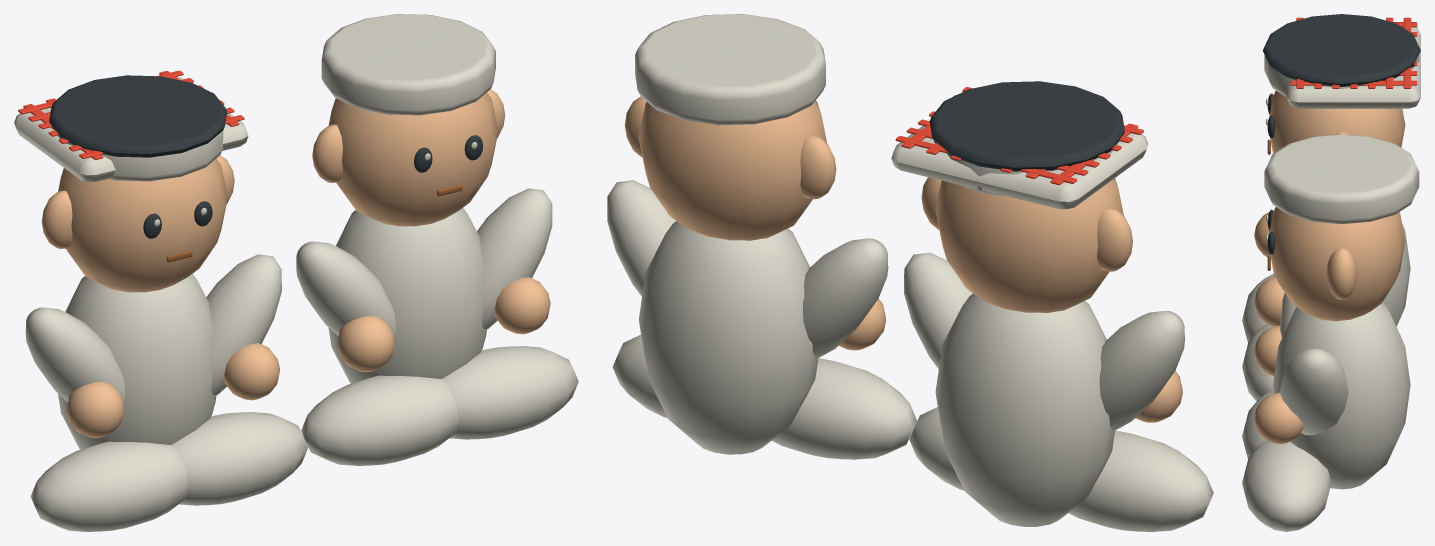
File: NJD-22.glb
3 views of the same model, side by side, from view 1: azimuth 30°, elevation 25°; view 2: azimuth 150°, elevation 25°; view 3: azimuth 270°, elevation 25° (orthographic). The views are drawn at different scales.
Visible parts, largest first — view 1: robe, robe.001, head.001, head, cap.001, igal, crossed leg, crossed leg.002, crossed leg.001, crossed leg.003, arm.003, arm.001 (+10 smaller); view 2: robe.001, robe, head.001, cap.001, head, igal, crossed leg.002, crossed leg, arm, arm.002, shemagh, arm.003 (+8 smaller); view 3: robe.001, cap.001, head.001, igal, crossed leg.003, head, arm.003, shemagh, hand.003, ear.003, crossed leg.001, hand.001 (+9 smaller).
Part boxes in pixels (left/top/right/bottom): robe: left=58, top=274, right=216, bottom=449; robe.001: left=328, top=208, right=486, bottom=383; head.001: left=328, top=92, right=498, bottom=226; head: left=58, top=158, right=227, bottom=292; cap.001: left=321, top=14, right=495, bottom=115; igal: left=49, top=75, right=227, bottom=157; crossed leg: left=30, top=441, right=187, bottom=531; crossed leg.002: left=301, top=375, right=458, bottom=465; crossed leg.001: left=171, top=412, right=307, bottom=505; crossed leg.003: left=442, top=346, right=578, bottom=439; arm.003: left=477, top=188, right=552, bottom=329; arm.001: left=206, top=254, right=281, bottom=395; robe.001: left=638, top=221, right=818, bottom=454; robe: left=935, top=293, right=1115, bottom=526; head.001: left=638, top=100, right=827, bottom=240; cap.001: left=635, top=14, right=825, bottom=125; head: left=935, top=178, right=1123, bottom=312; igal: left=929, top=81, right=1124, bottom=171; crossed leg.002: left=771, top=358, right=916, bottom=459; crossed leg: left=1068, top=430, right=1213, bottom=531; arm: left=1099, top=310, right=1184, bottom=430; arm.002: left=803, top=238, right=888, bottom=357; shemagh: left=891, top=126, right=1148, bottom=209; arm.003: left=607, top=180, right=675, bottom=296; robe.001: left=1273, top=302, right=1410, bottom=489; cap.001: left=1264, top=134, right=1419, bottom=224; head.001: left=1269, top=207, right=1405, bottom=321; igal: left=1263, top=14, right=1420, bottom=86; crossed leg.003: left=1242, top=440, right=1331, bottom=531; head: left=1269, top=90, right=1405, bottom=153; arm.003: left=1280, top=347, right=1348, bottom=435; shemagh: left=1286, top=27, right=1420, bottom=108; hand.003: left=1254, top=392, right=1303, bottom=444; ear.003: left=1326, top=248, right=1357, bottom=299; crossed leg.001: left=1242, top=324, right=1273, bottom=401; hand.001: left=1254, top=277, right=1284, bottom=326.
Size of the model in its own units: 1.6 by 1.07 by 0.52.
